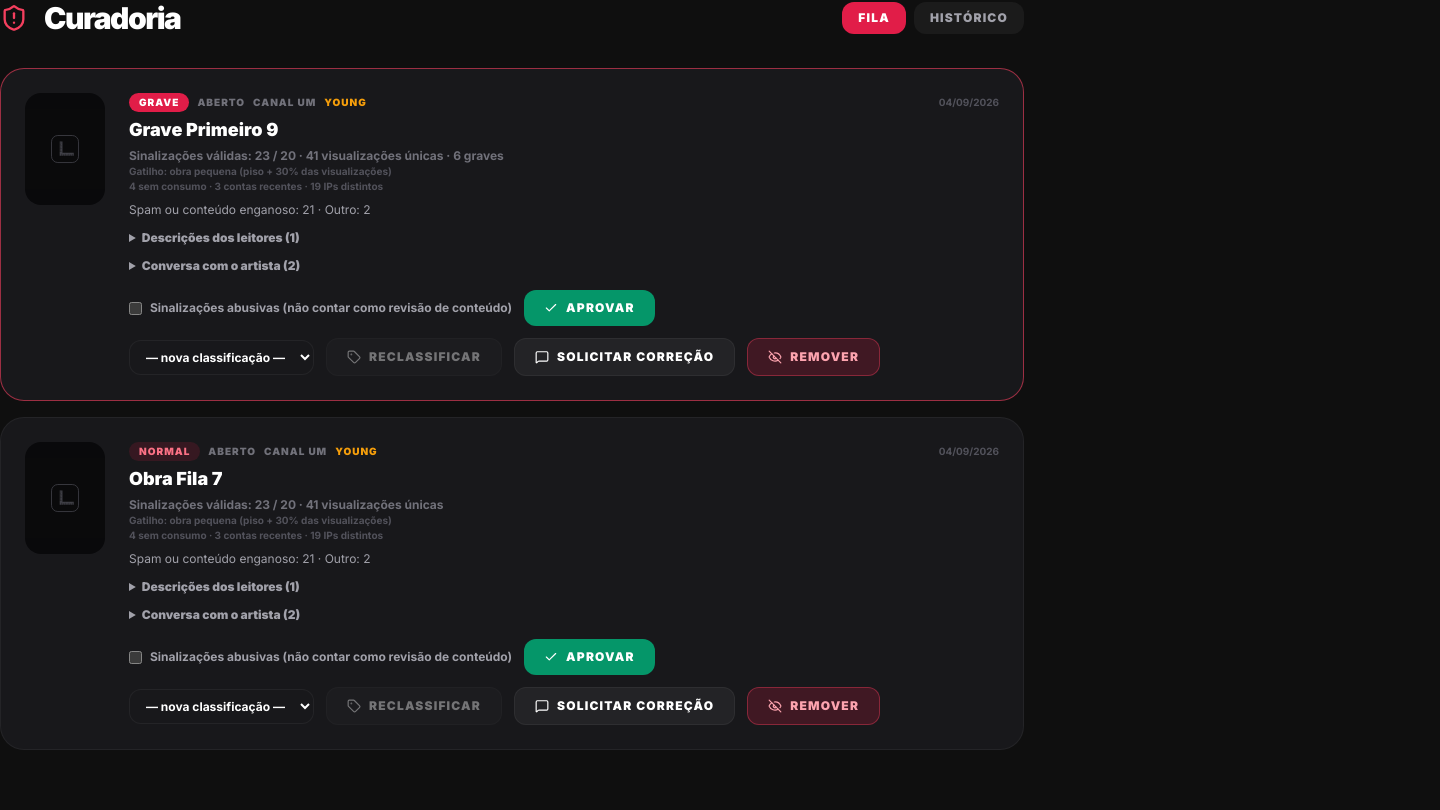
Test: CuradoriaPanel › Remover exige motivo e confirmação, avisa que a obra não é apagada; envia {motivo}; erro da API aparece no modal
Click the 2nd button "Remover".
click(814, 706)  # box 747,687 -> 880,725
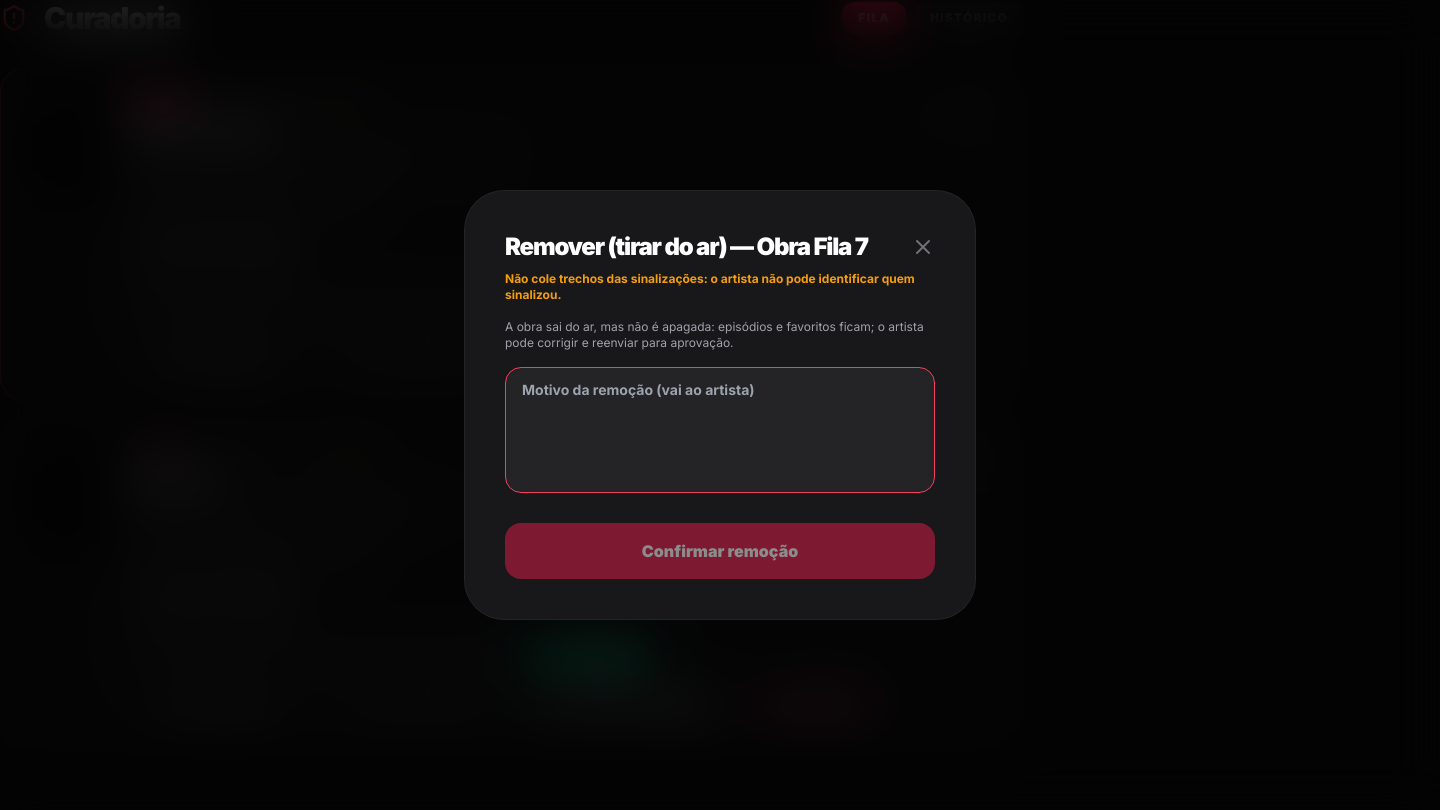
Result: the text "não é apagada" is shown at 505,319 -> 924,350
Result: the button "Confirmar remoção" is disabled at 505,523 -> 935,579
Type "Cópia confirmada." into the text box with placeholder "Motivo da remoção (vai ao artista)".
click(720, 430); type("Cópia confirmada.")  # box 505,367 -> 935,493
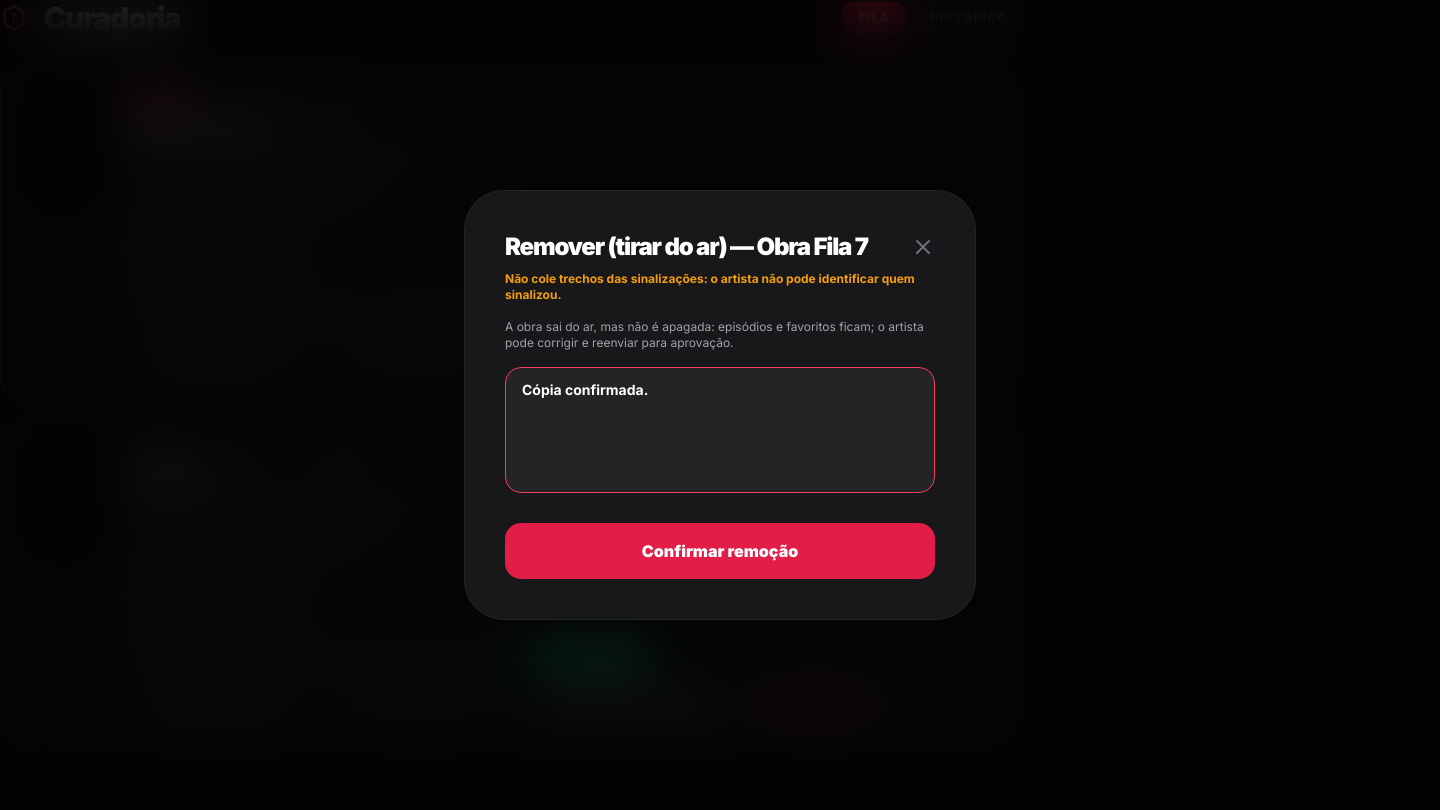
Click the button "Confirmar remoção".
click(720, 551)  # box 505,523 -> 935,579
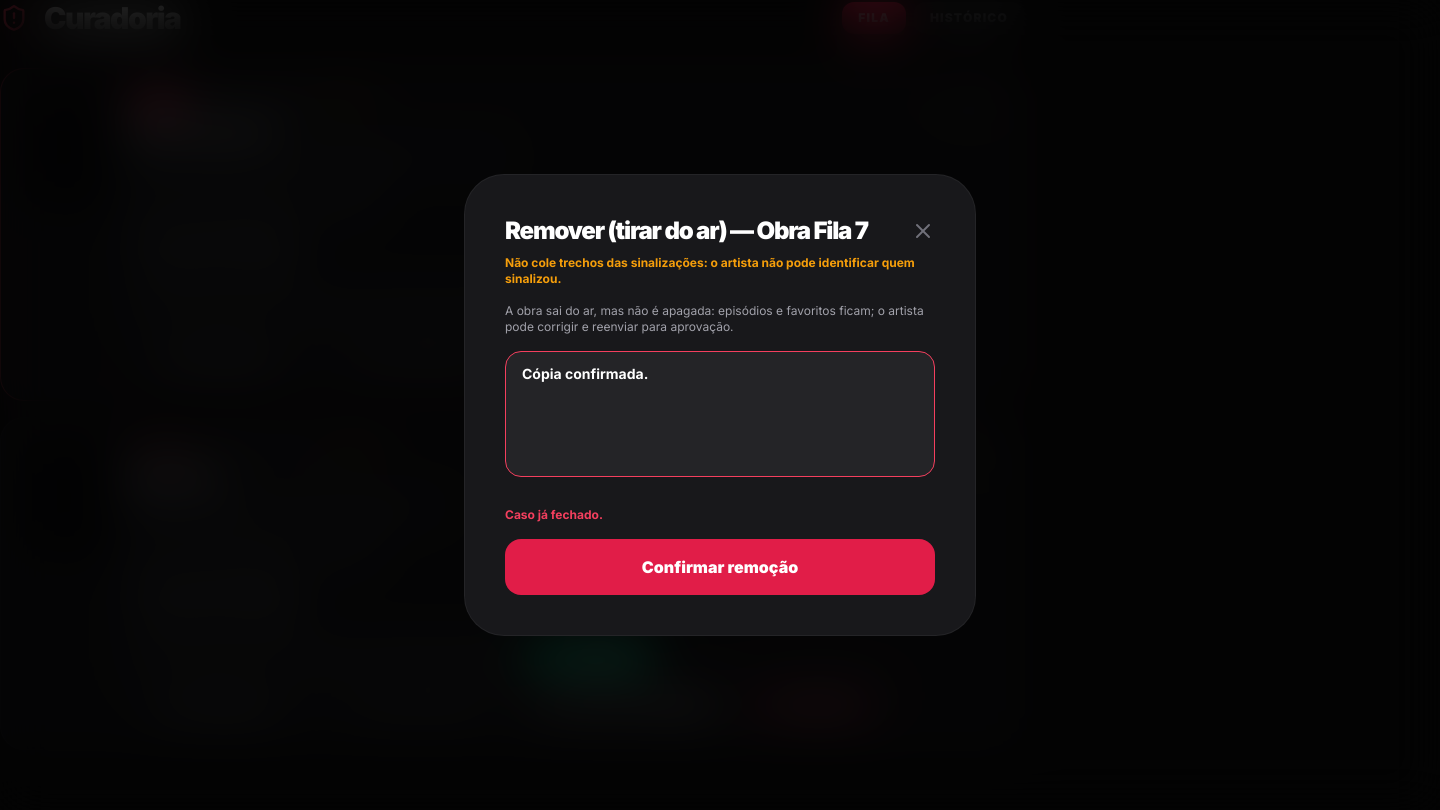
Result: the text "Caso já fechado." is shown at 505,507 -> 603,522
